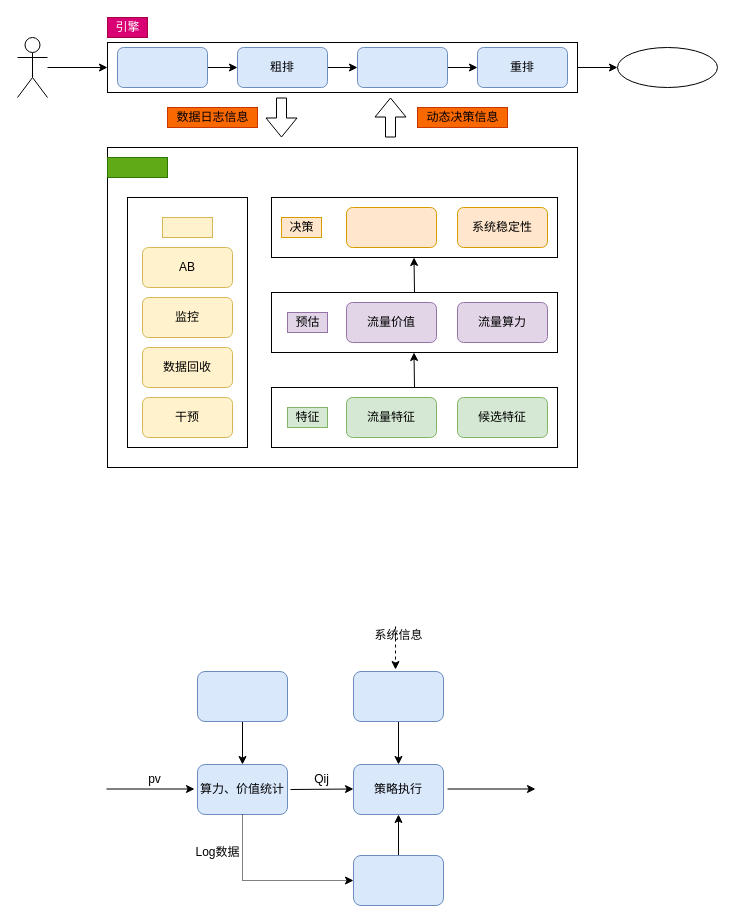
Image size: 735x923. Some labels were removed from this diagram. Here are the shapes that lost their labels. From the top down, the centre of each, then its label:
the point at 32,67: Actor
the point at 162,67: 召回
the point at 402,67: 精排
the point at 667,67: result
the point at 137,167: 算力分配
the point at 187,227: 支撑层
the point at 391,227: 算力档位
the point at 242,696: 用户分层信息
the point at 398,696: 机器信息、监控
the point at 398,880: 超参数求解
